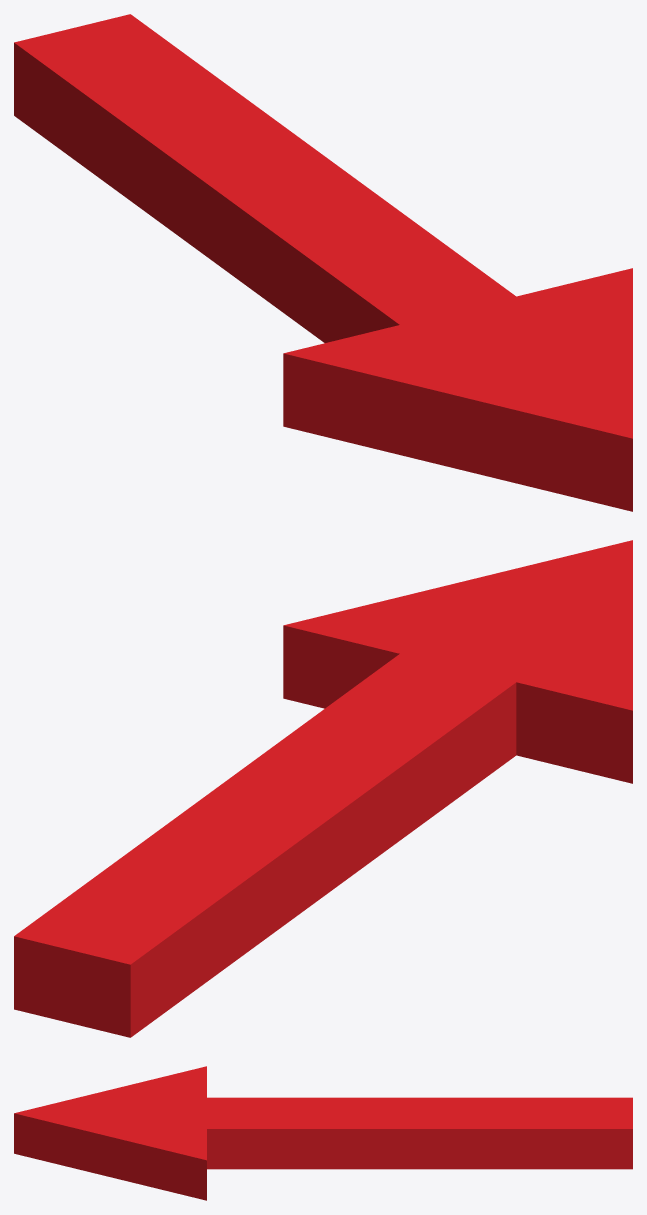
File: Direction.fbx
3 renders of one model, top to bottom at view 1: azimuth 30°, elevation 25°; view 2: azimuth 150°, elevation 25°; view 3: azimuth 270°, elevation 25°, orthographic. The views are drawn at different scales.
Visible parts, largest first — view 1: pPrism3; view 2: pPrism3; view 3: pPrism3.
Part boxes in pixels (left/top/right/bottom): pPrism3: left=14, top=14, right=632, bottom=511; pPrism3: left=14, top=540, right=632, bottom=1037; pPrism3: left=14, top=1066, right=632, bottom=1200.
Bounding box in the file's own units: 1.5 × 0.3 × 4.17.
1 material, 1 textured.
